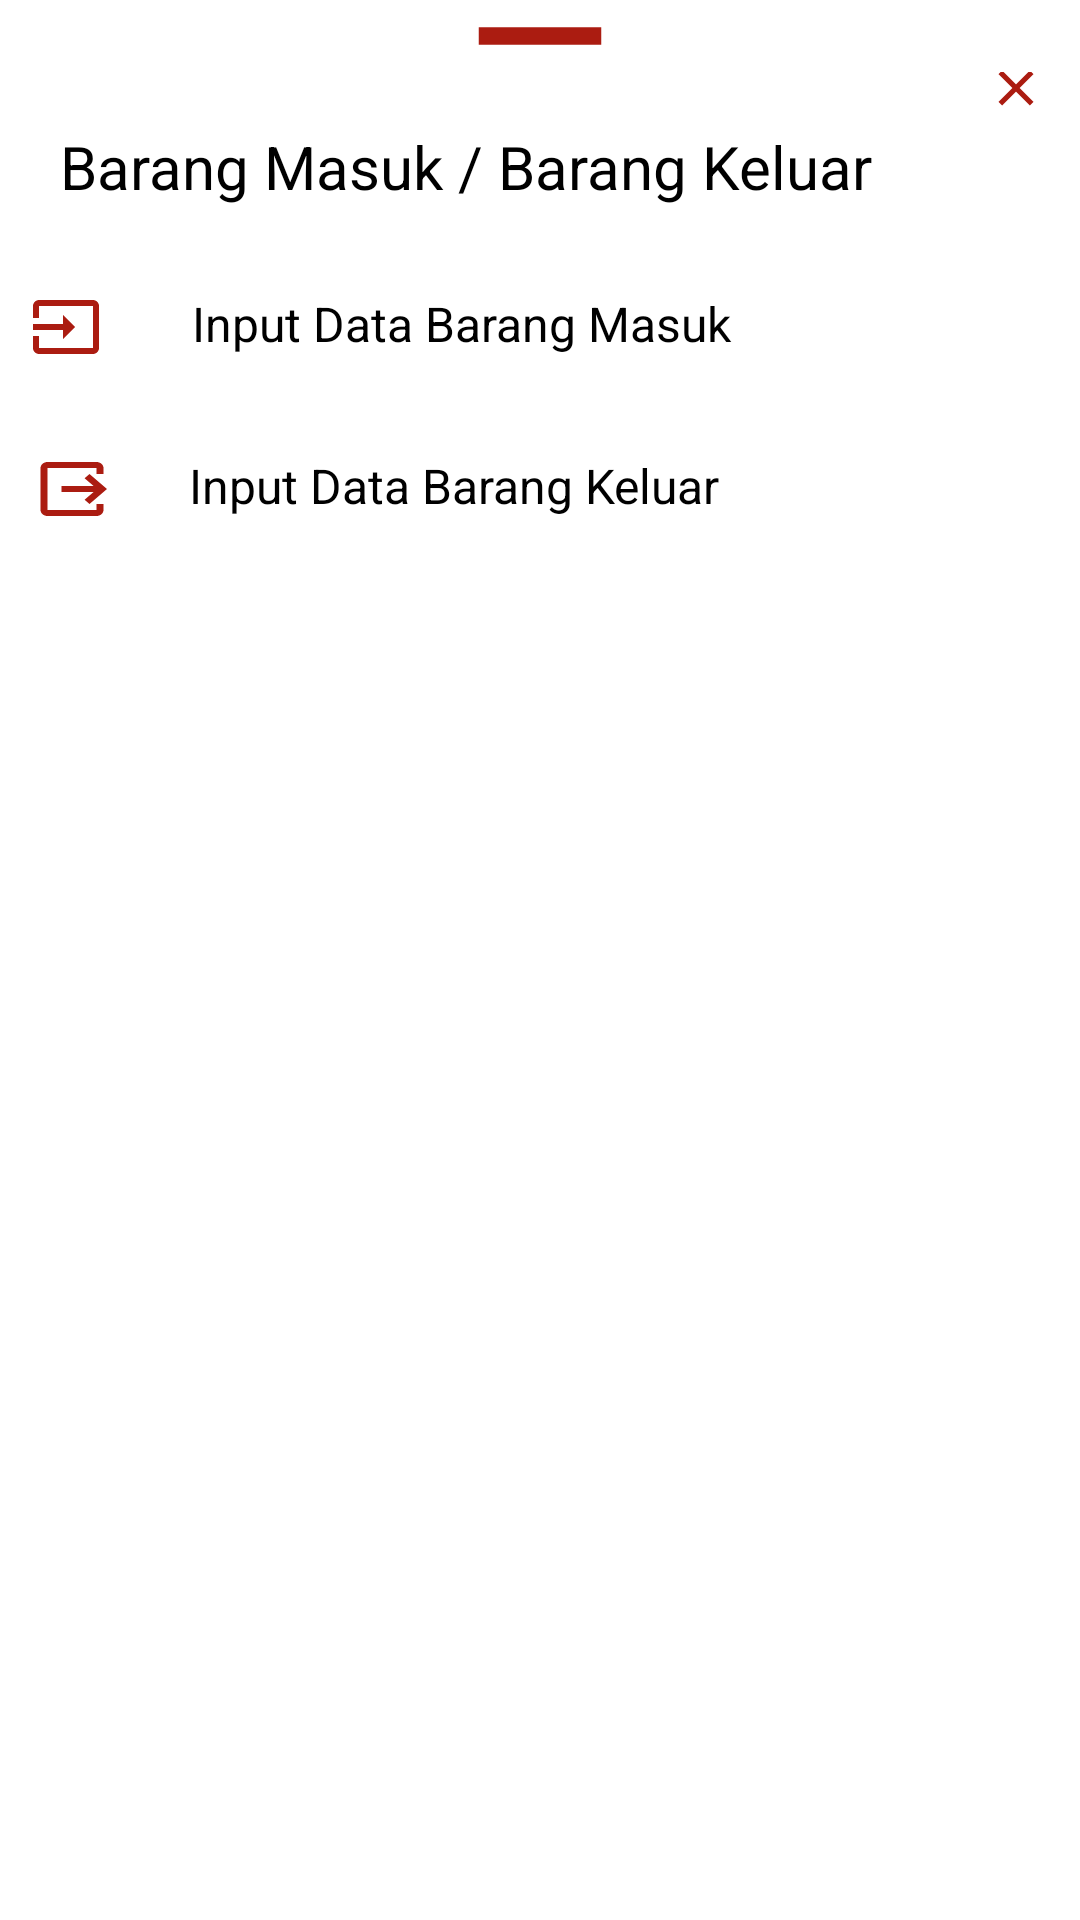

Icon bounding boxes for this 1080×1920 phone screenshot, format bbox(x1, y1, x2, y2):
output: bbox(40, 462, 107, 516)
